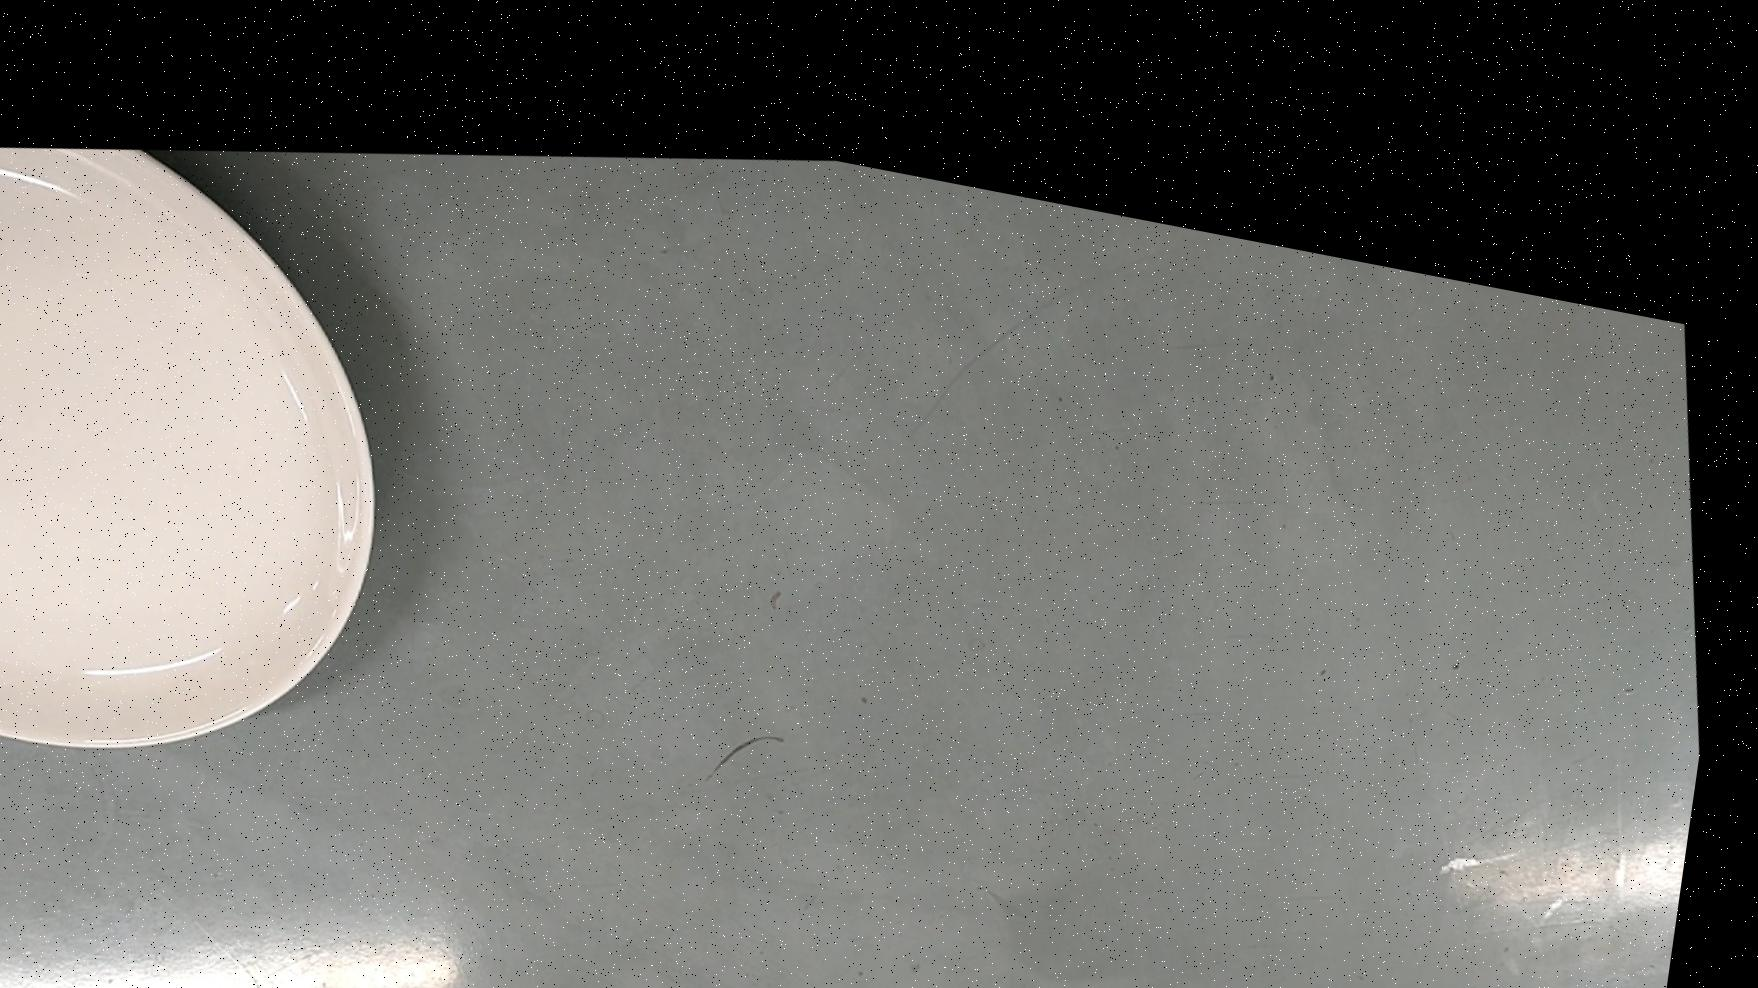plate: (0, 81, 468, 819)
